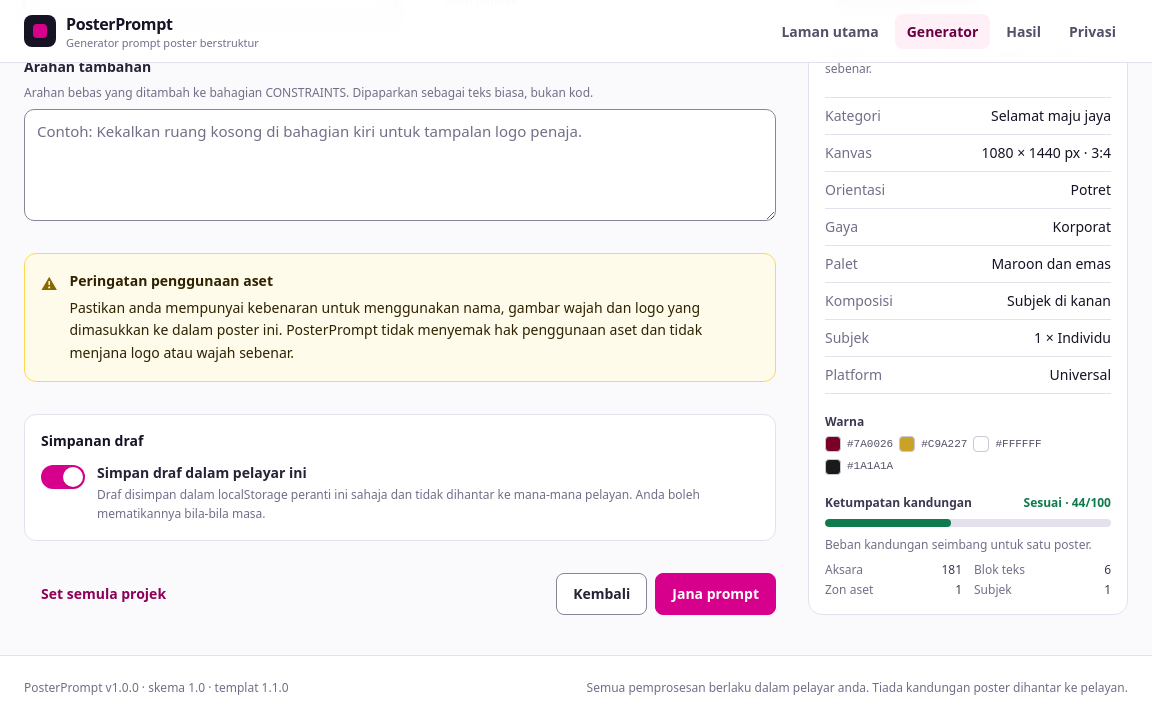
panel hasil — empat blok output (FR-014 hingga FR-016) › memaparkan keputusan audit QA-01 hingga QA-07
(page scrolled)
Step 1. Click the button "Jana prompt" → (716, 594), box [655, 573, 776, 615]
(page scrolled)
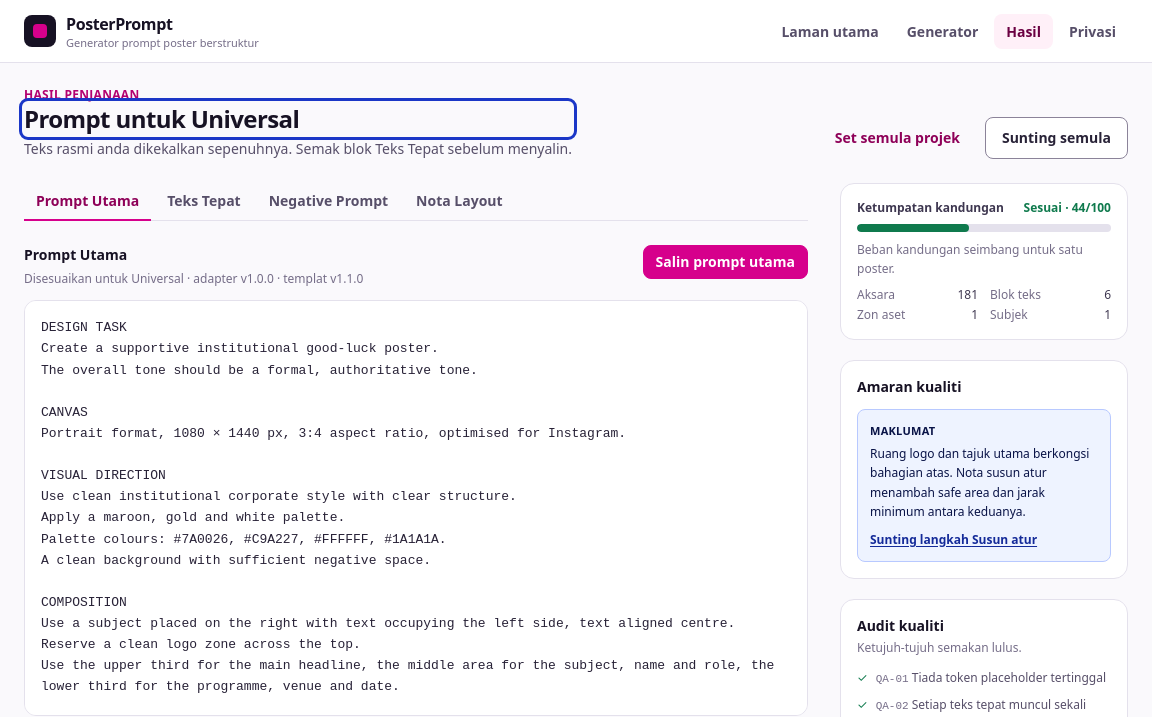
Expected: the text "QA-01" is shown, [876, 673, 909, 685]
Expected: the text "QA-02" is shown, [876, 700, 909, 712]
Expected: the text "Ketujuh-tujuh semakan lulus." is shown, [857, 639, 1022, 656]
